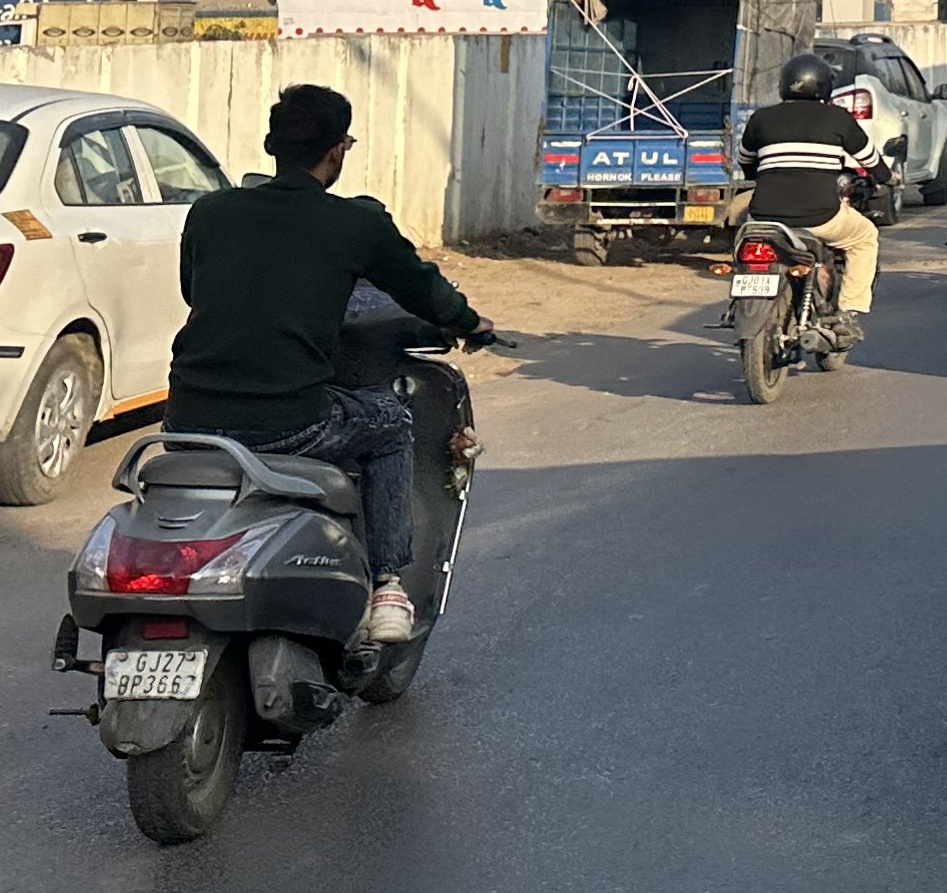BikeWithRider: (33, 52, 537, 866), (695, 41, 905, 430)
Helmet: (773, 48, 837, 107)
NoHelmet: (258, 81, 372, 201)
